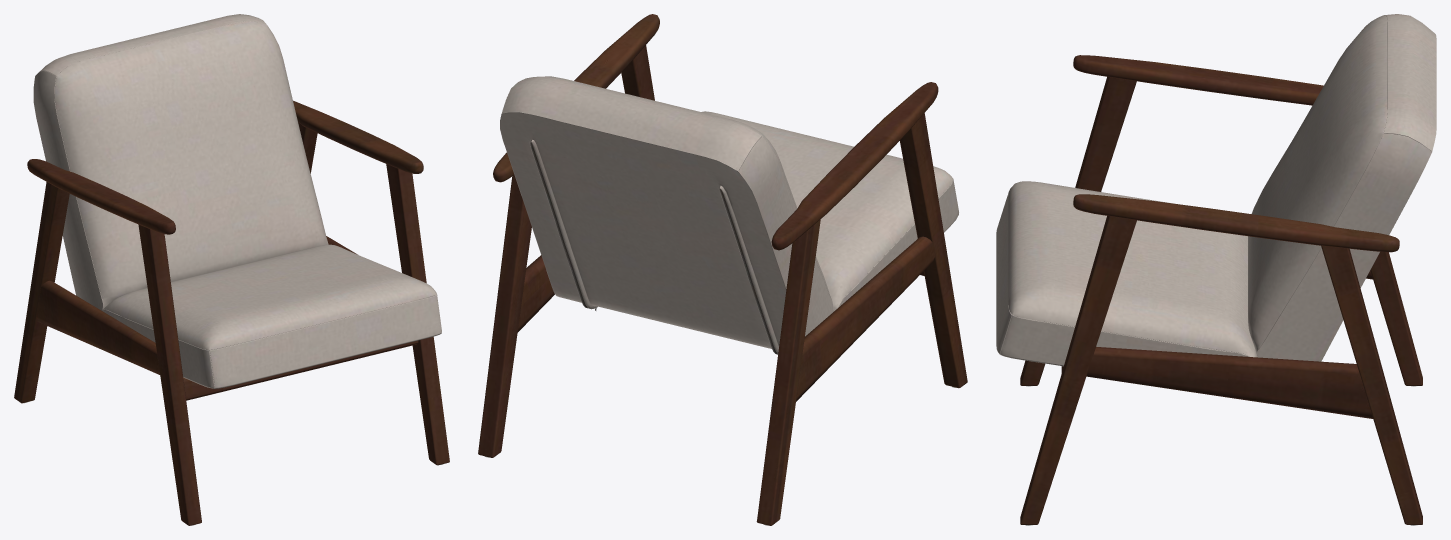
The picture shows the model from 3 angles, left to right: view 1: azimuth 30°, elevation 25°; view 2: azimuth 150°, elevation 25°; view 3: azimuth 270°, elevation 25°; orthographic projection. The views are drawn at different scales.
Parts seen in each view (by area): view 1: Mesh_0; view 2: Mesh_0; view 3: Mesh_0.
Boxes of the visible parts, x1=… form: Mesh_0: x1=14, y1=14, x2=449, y2=525; Mesh_0: x1=478, y1=14, x2=967, y2=525; Mesh_0: x1=996, y1=14, x2=1436, y2=525.
Bounding box in the file's own units: 0.64 × 0.76 × 0.78.
1 material, 1 textured.
